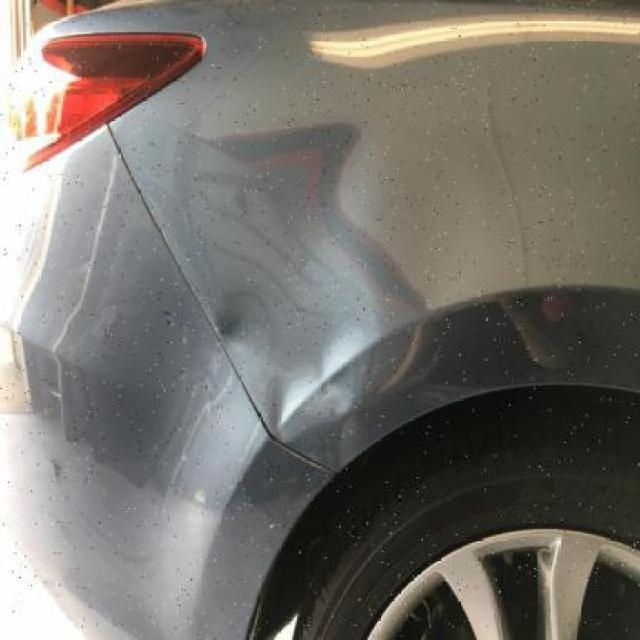quaterpanel-dent: (137, 0, 639, 597)
